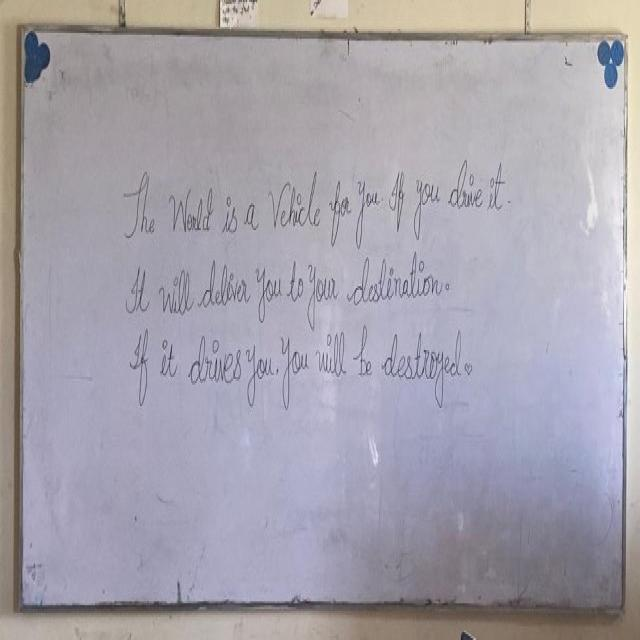White-board: (19, 27, 627, 610)
